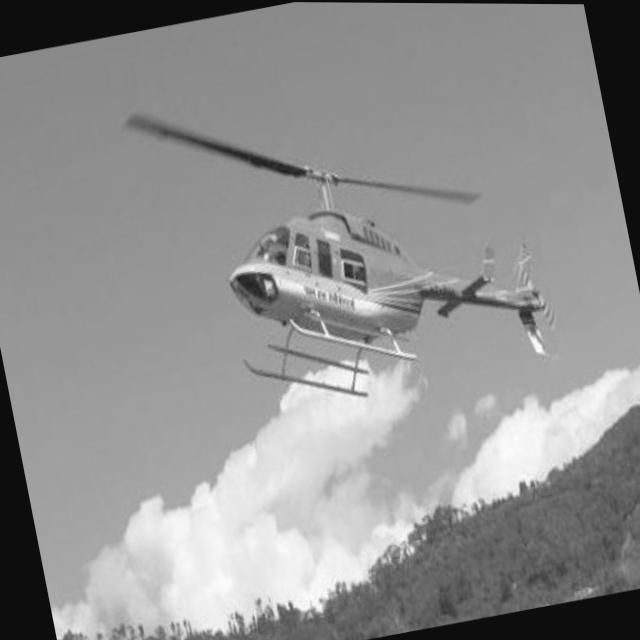helikopter: (130, 39, 592, 470)
